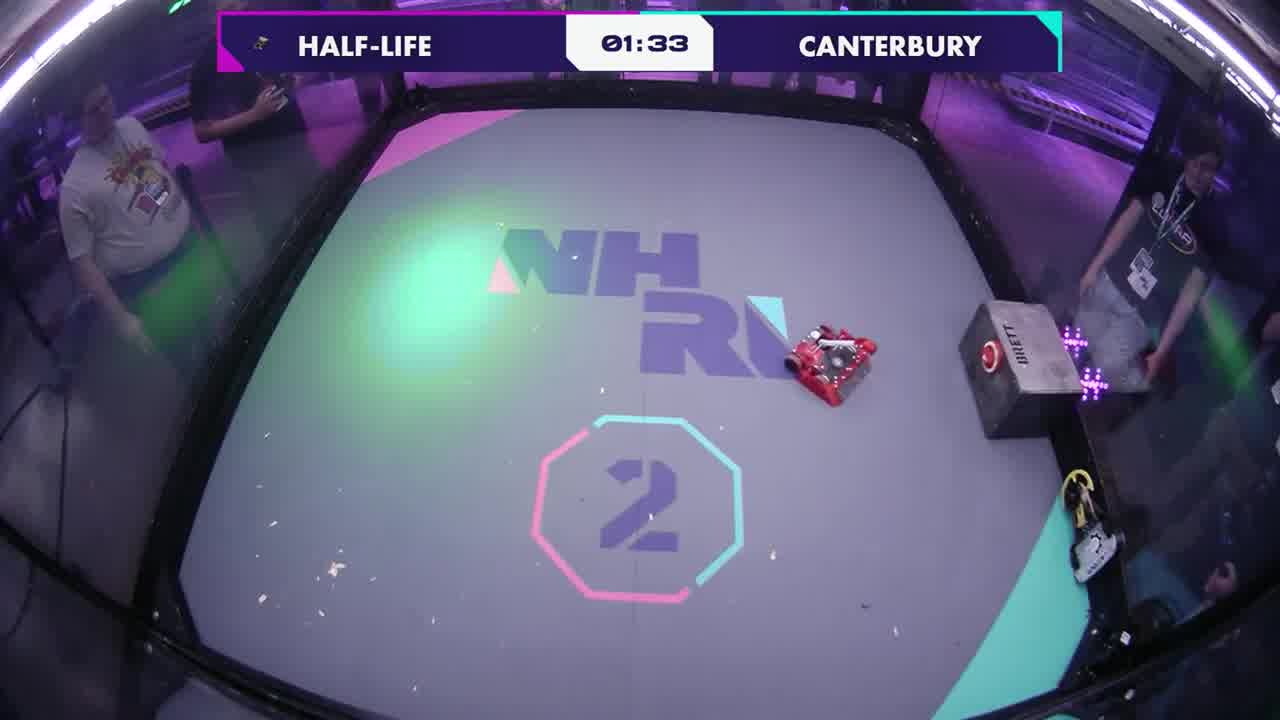combatbot: (780, 323, 875, 409), (1070, 461, 1121, 591)
housebot: (959, 302, 1084, 441)
